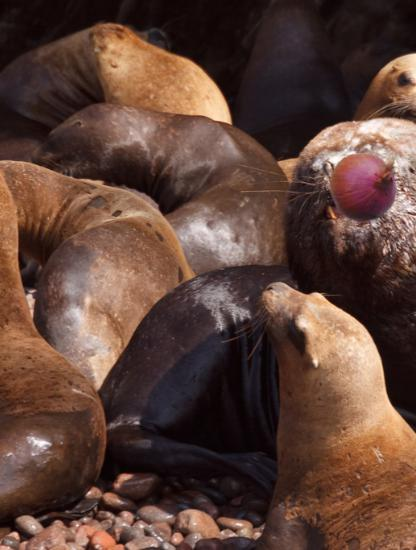Onion: (329, 148, 405, 224)
